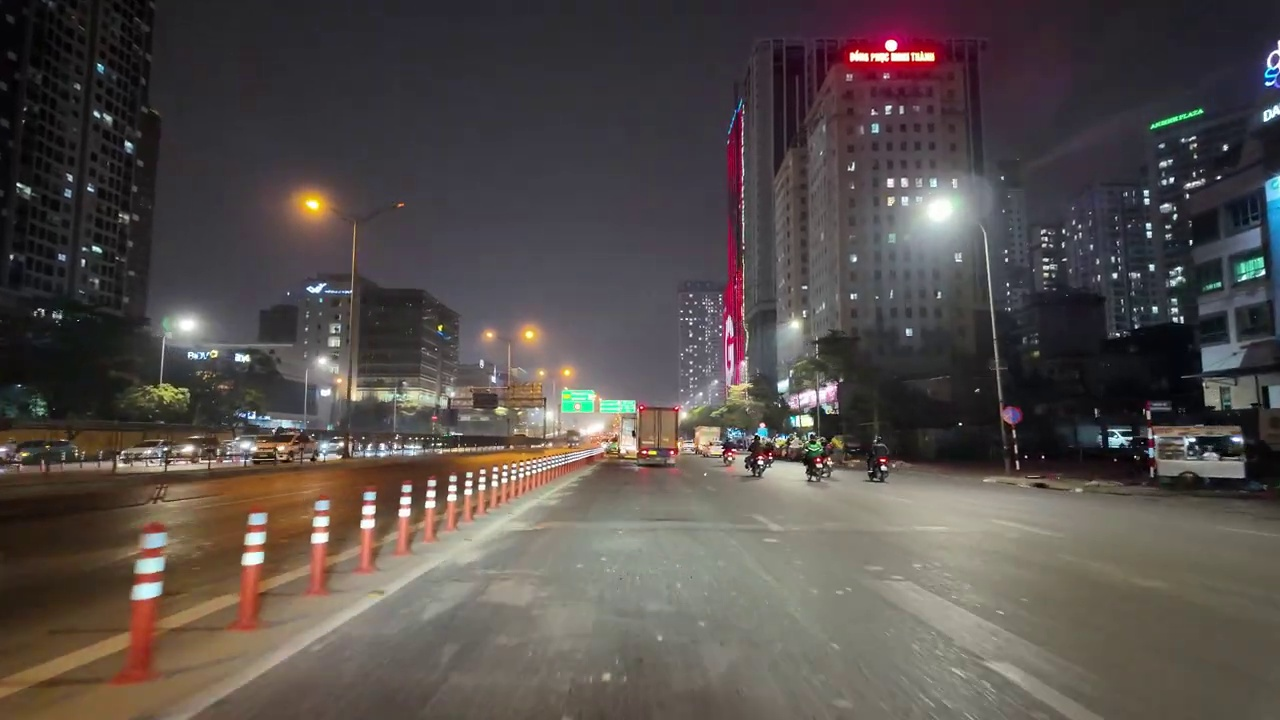acesa: (918, 191, 961, 228), (294, 190, 331, 221), (171, 312, 205, 339), (516, 323, 543, 347), (479, 326, 499, 347), (559, 363, 577, 383)
